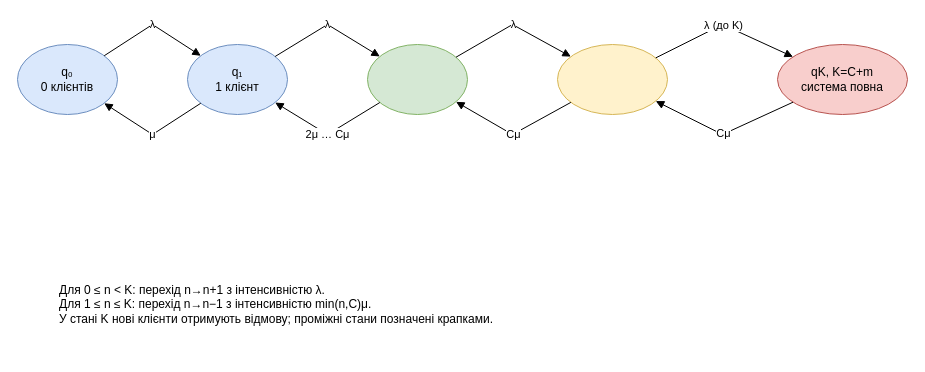
This 925x372 diagram has some shape labels left out. Here are the shapes that lost their labels. From the top down, the box of each, then its label:
(366, 44, 468, 114): qC C клієнтів
(556, 44, 668, 114): q(C+1) 1 у черзі
